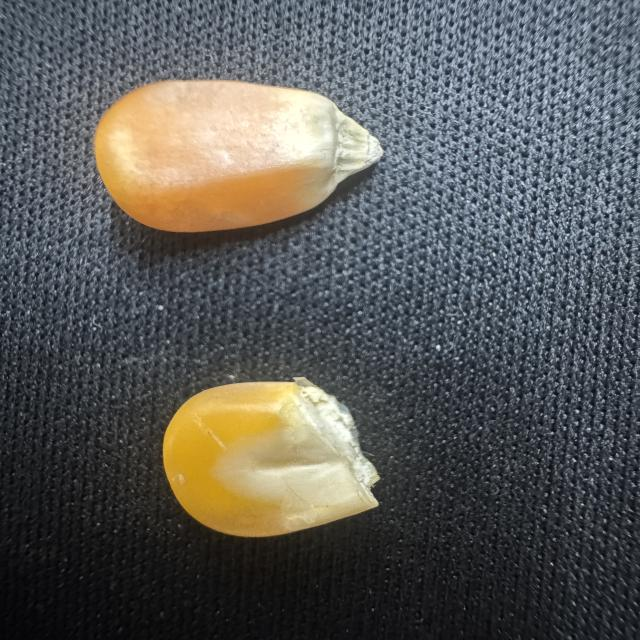Bad-Seed: (150, 370, 388, 549)
Good-Seed: (81, 72, 389, 235)
